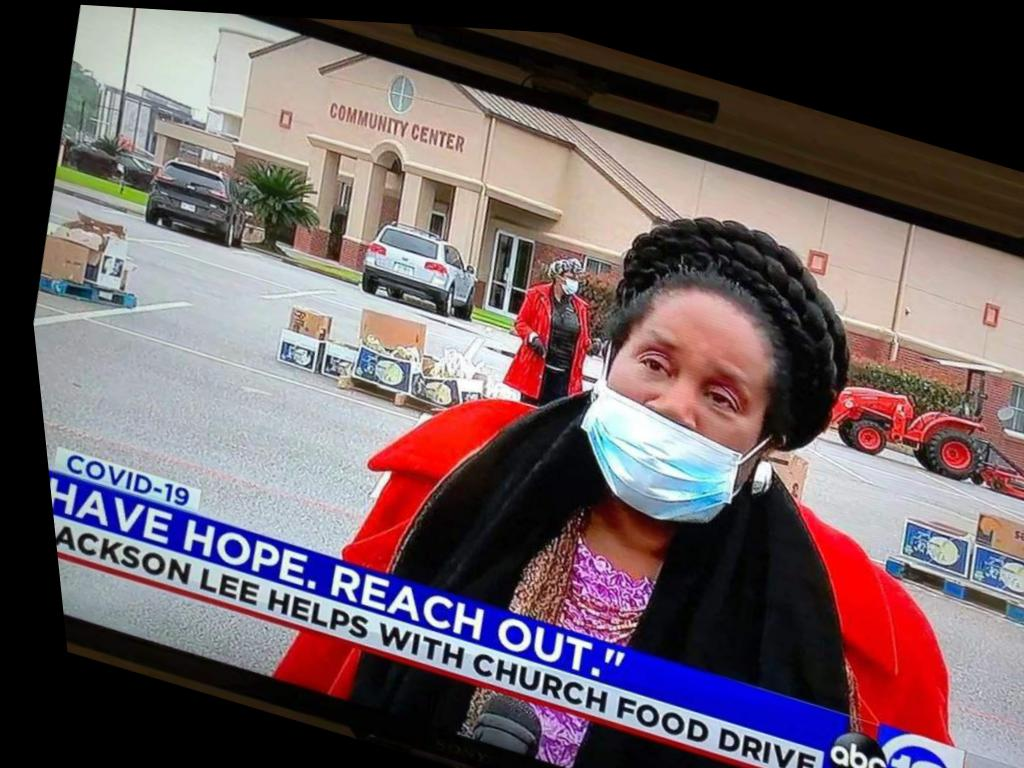OK: (552, 262, 582, 293)
WRONG: (558, 295, 784, 539)
